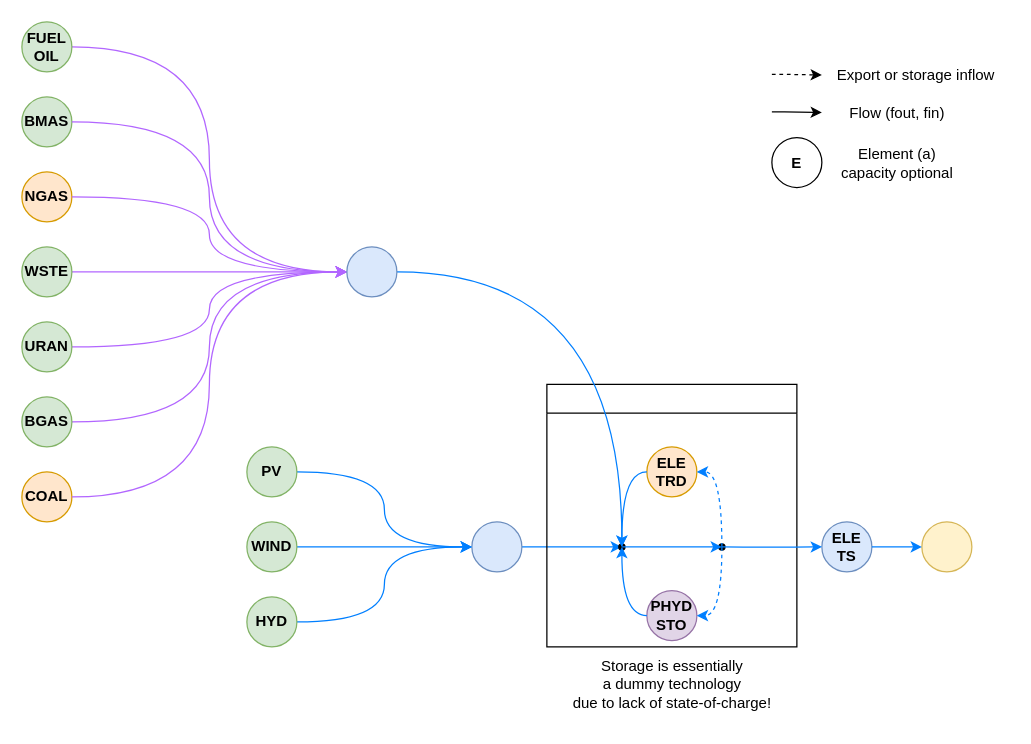
Image size: 1031x744. Some labels were removed from this diagram. Each missing label, with the box of its shape:
CHP CONV: (346, 246, 397, 297)
ELE: (921, 521, 972, 572)
ELE CONV: (471, 521, 522, 572)
Electricity supply: (546, 383, 797, 647)
